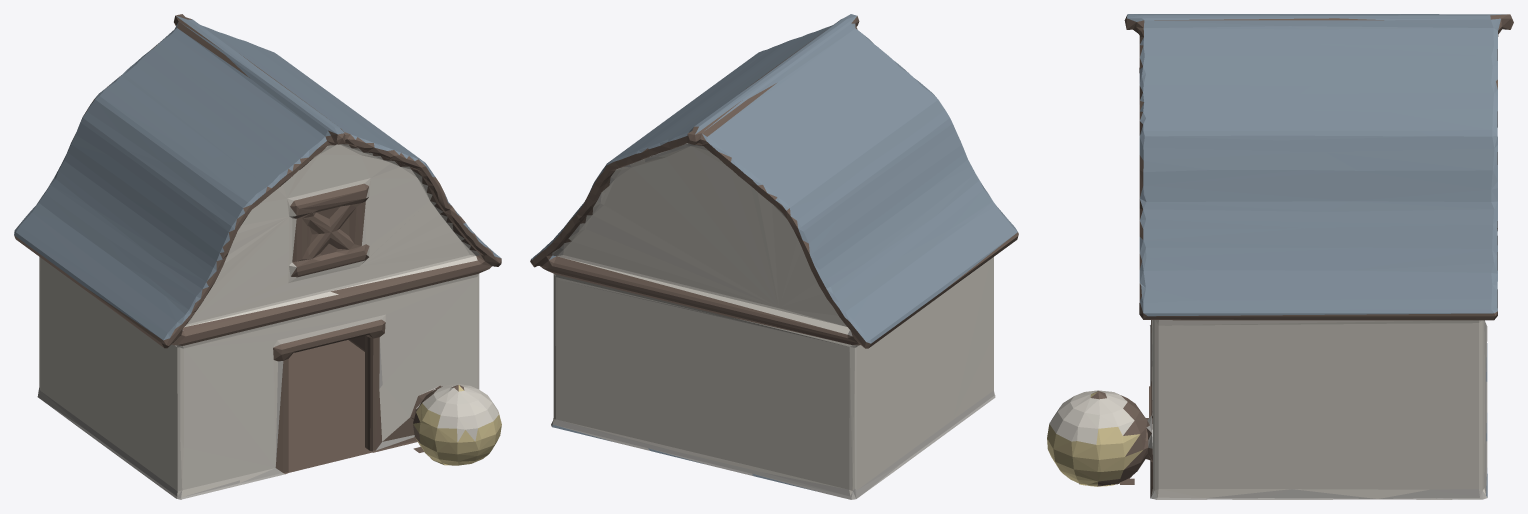
3 renders of one model, left to right at view 1: azimuth 30°, elevation 25°; view 2: azimuth 150°, elevation 25°; view 3: azimuth 270°, elevation 25°, orthographic. The views are drawn at different scales.
Parts seen in each view (by area): view 1: geometry_0; view 2: geometry_0; view 3: geometry_0.
Boxes of the visible parts, x1,y1,x2,y2 form: geometry_0: (14, 14, 501, 499); geometry_0: (530, 14, 1018, 499); geometry_0: (1047, 14, 1513, 499).
Size of the model in its own units: 0.8899 by 0.8449 by 0.9001.
